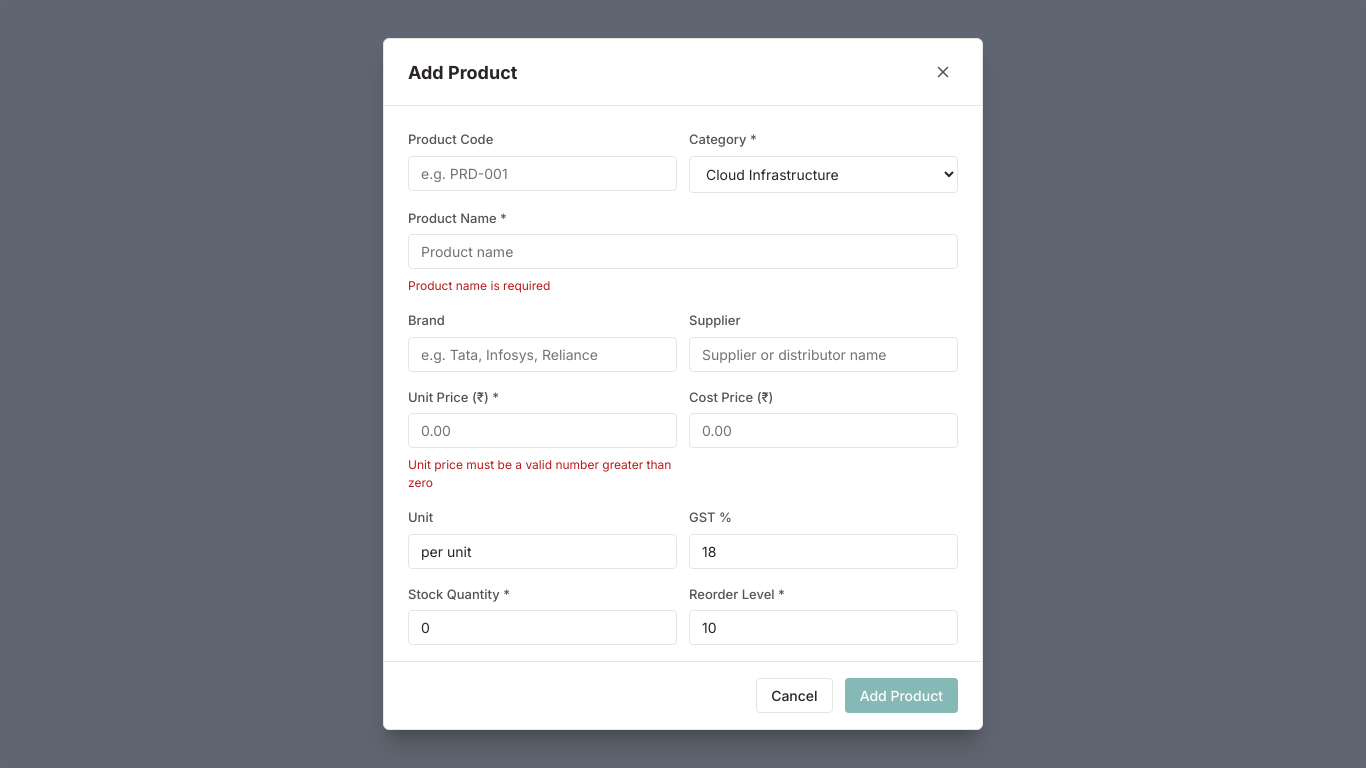
Test: Frontend Input Validation & Boundaries › 2. Add / Edit Product Form Validation › strips leading zeros from numeric inputs
The image size is (1366, 768).
Type "000123" into the number field labelled "Stock Quantity *" at (542, 628), box [408,610,677,645]
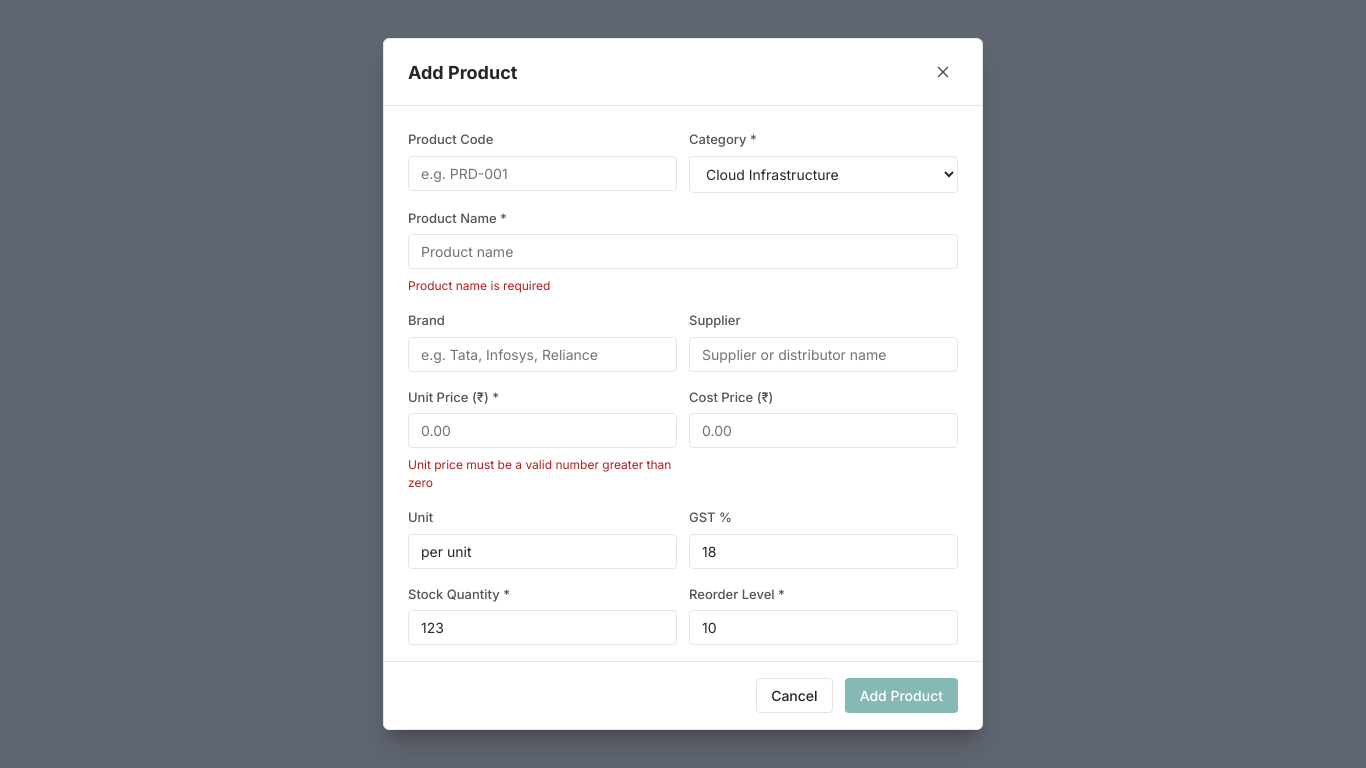
Expected: the number field labelled "Stock Quantity *" holds "123", [408,610,677,645]
